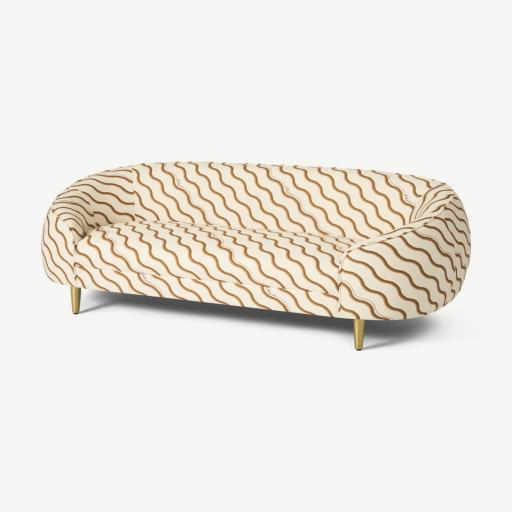back_cushion: (130, 162, 444, 239)
left_arm: (338, 196, 468, 319)
legs: (70, 286, 81, 314), (354, 320, 364, 350)
one-seater: (42, 161, 470, 349)
right_arm: (42, 167, 136, 285)
seat_cushion: (77, 220, 348, 294)
